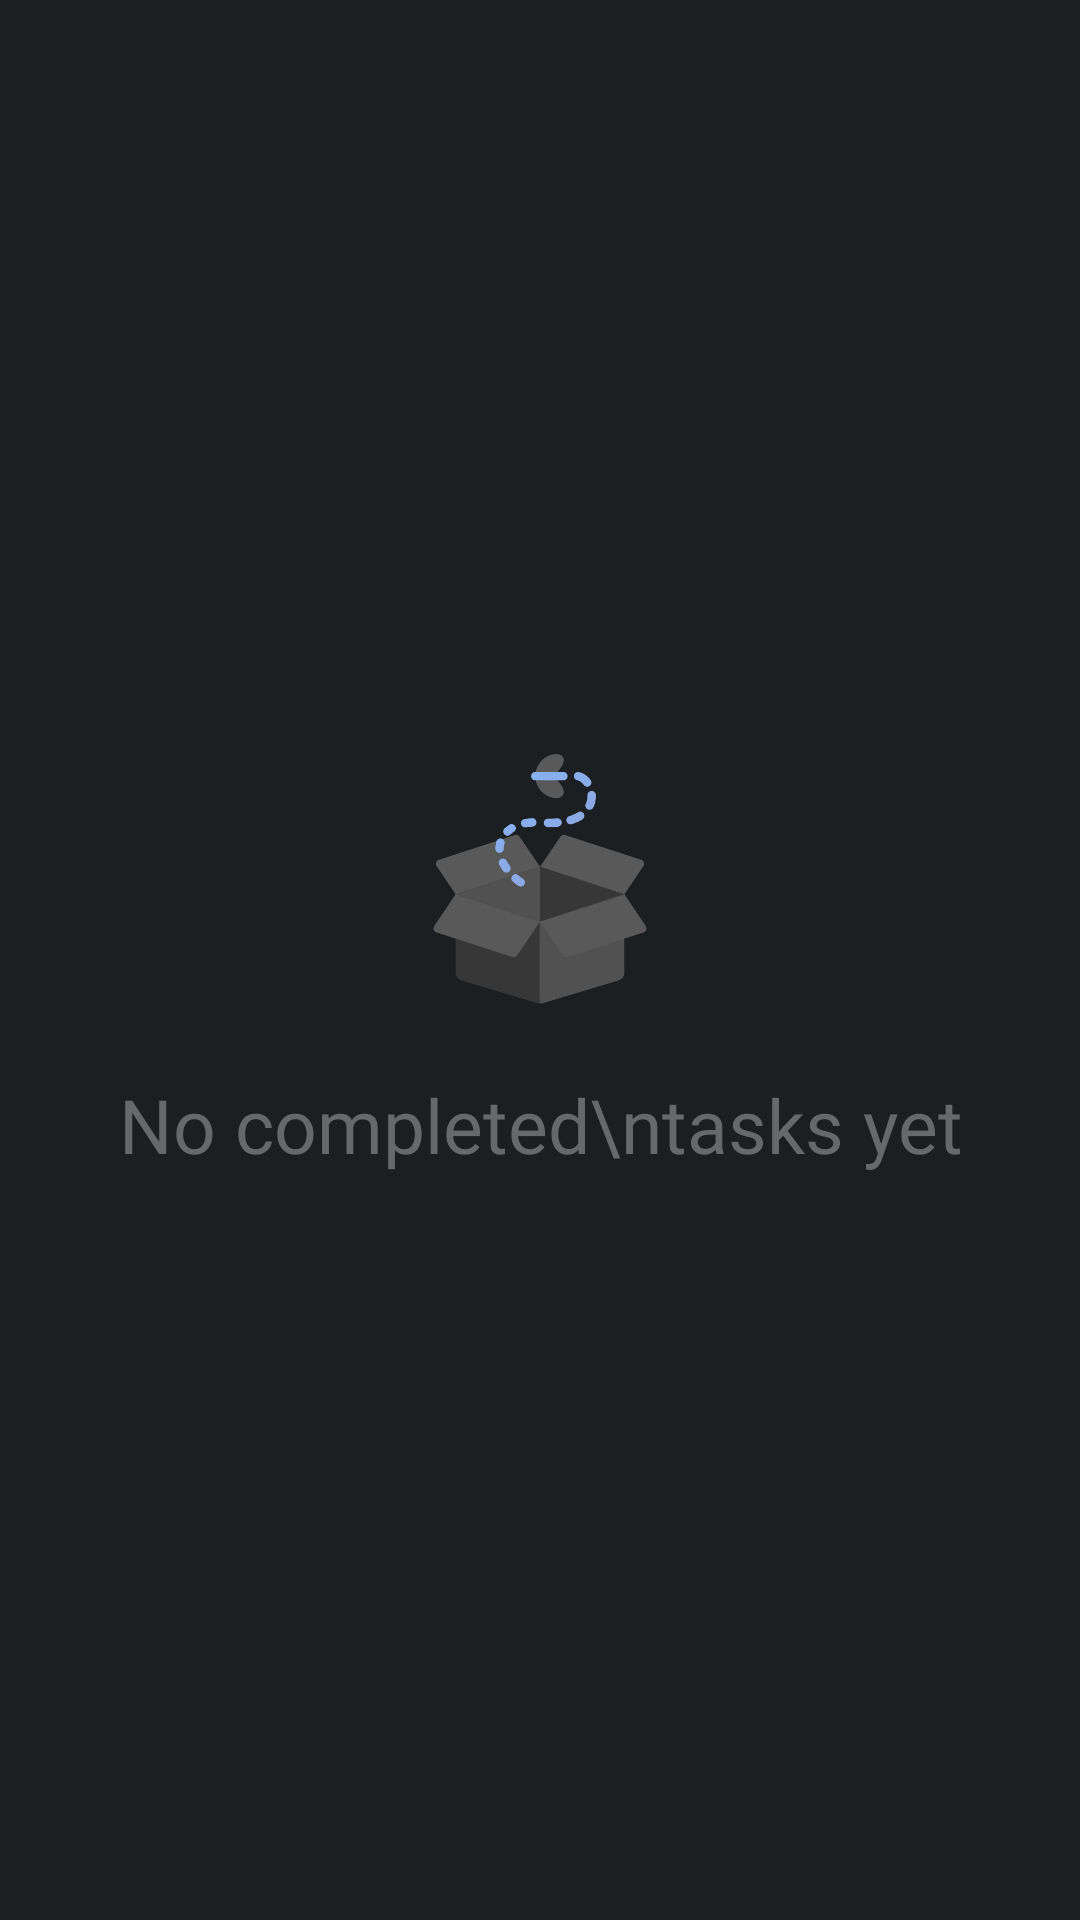

Screen size 1080px×1920px. Icon name, then its box in pixels as (x1, y1, x2, y2):
empty: (433, 754, 647, 1004)
